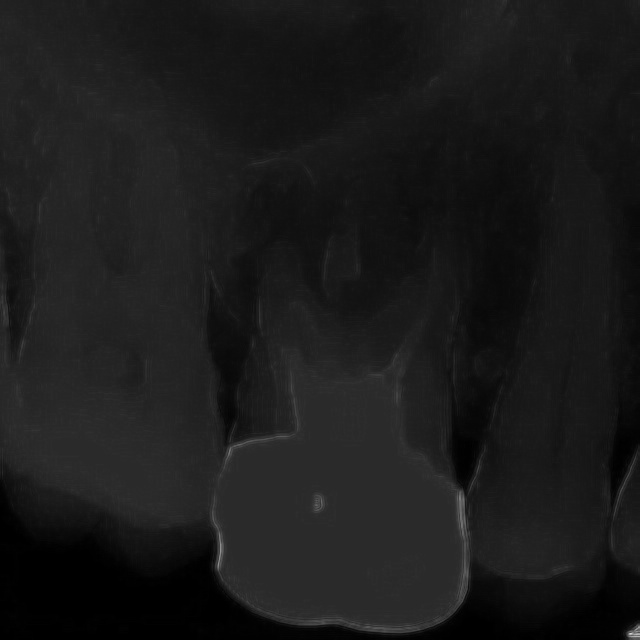Class 1- complete endodontic treatment: (191, 103, 504, 639)
